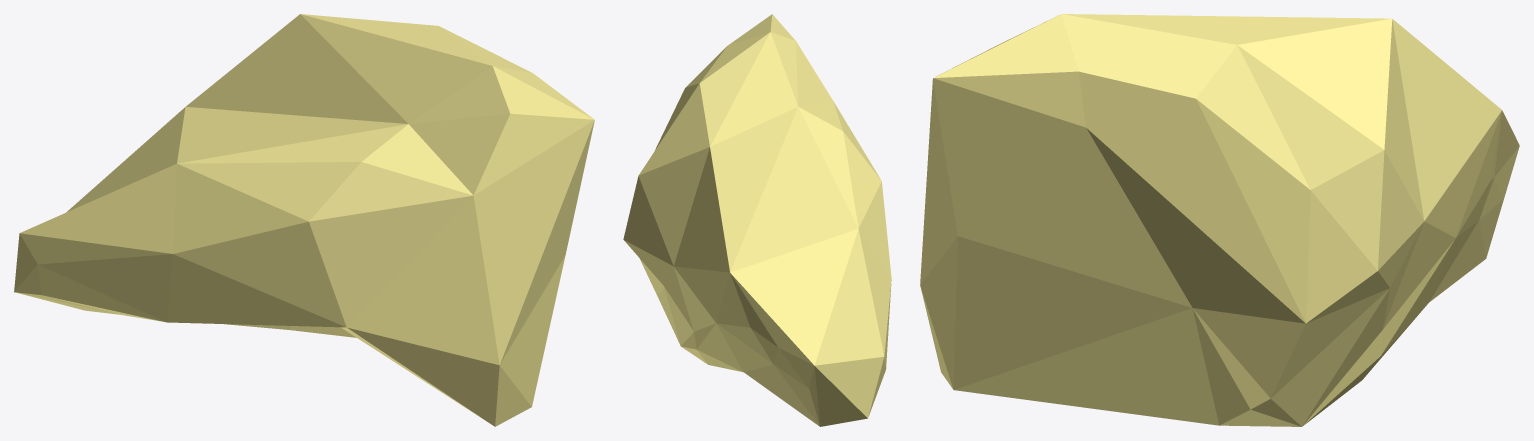
Rendered from Hill_003.glb.
The picture shows the model from 3 angles, left to right: view 1: azimuth 30°, elevation 25°; view 2: azimuth 150°, elevation 25°; view 3: azimuth 270°, elevation 25°; orthographic projection. The views are drawn at different scales.
Visible parts, largest first — view 1: Hill_003; view 2: Hill_003; view 3: Hill_003.
Part boxes in pixels (x1,y1,x2,y2): Hill_003: [14, 14, 594, 426]; Hill_003: [623, 14, 891, 426]; Hill_003: [920, 14, 1519, 426].
Size of the model in its own units: 0.6817 by 0.5619 by 0.7564.
1 material, 1 textured.
